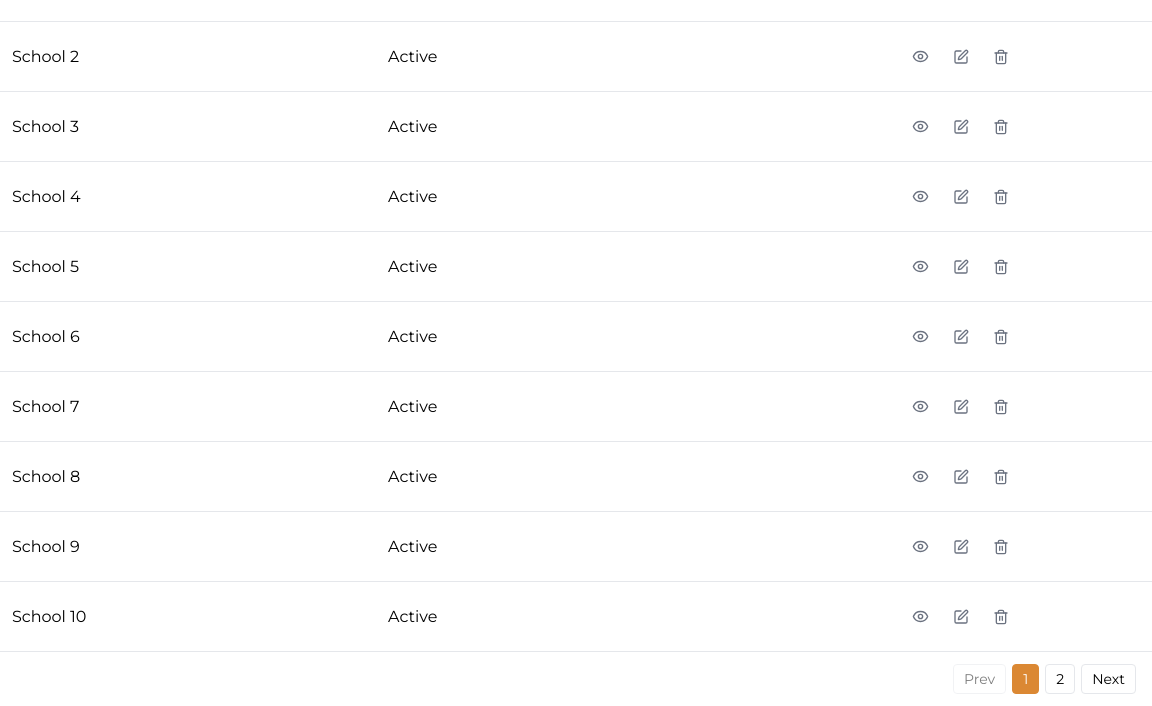
Scenario: ListTable — pagination › navigates to a specific page via page number button
(page scrolled)
Click the button "2" at (1060, 679), box x1=1045 y1=664 x2=1075 y2=694
(page scrolled)
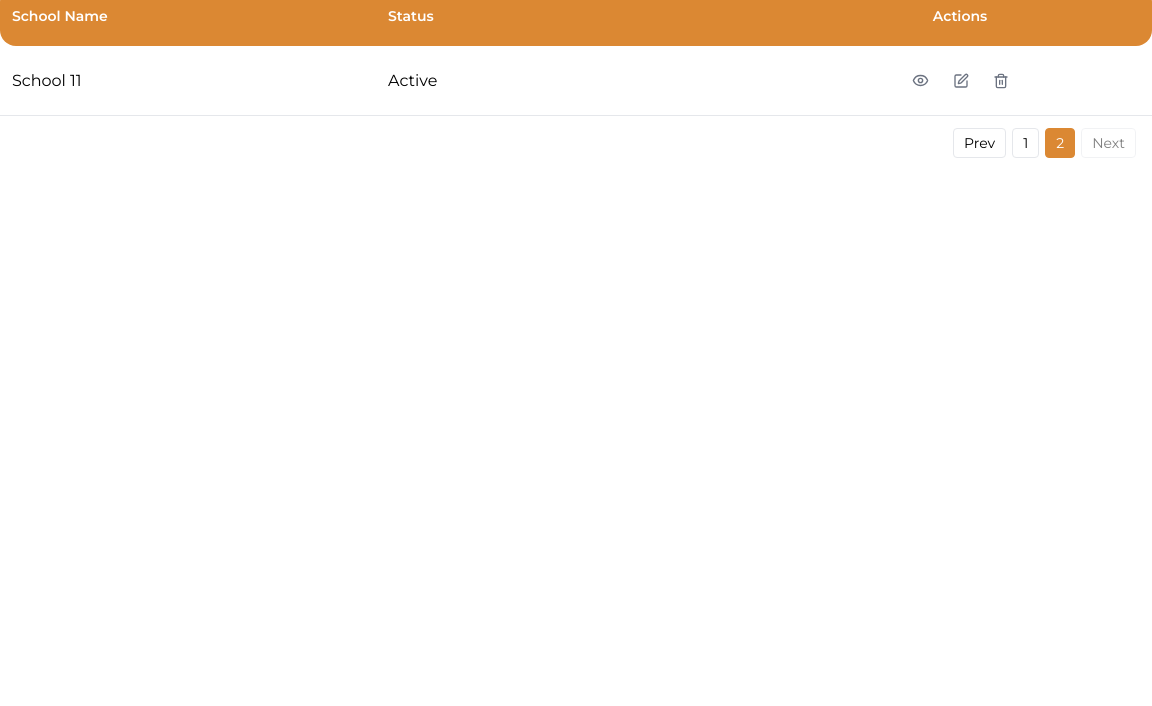
Check: the text "School 11" is shown, box x1=12 y1=68 x2=82 y2=92
